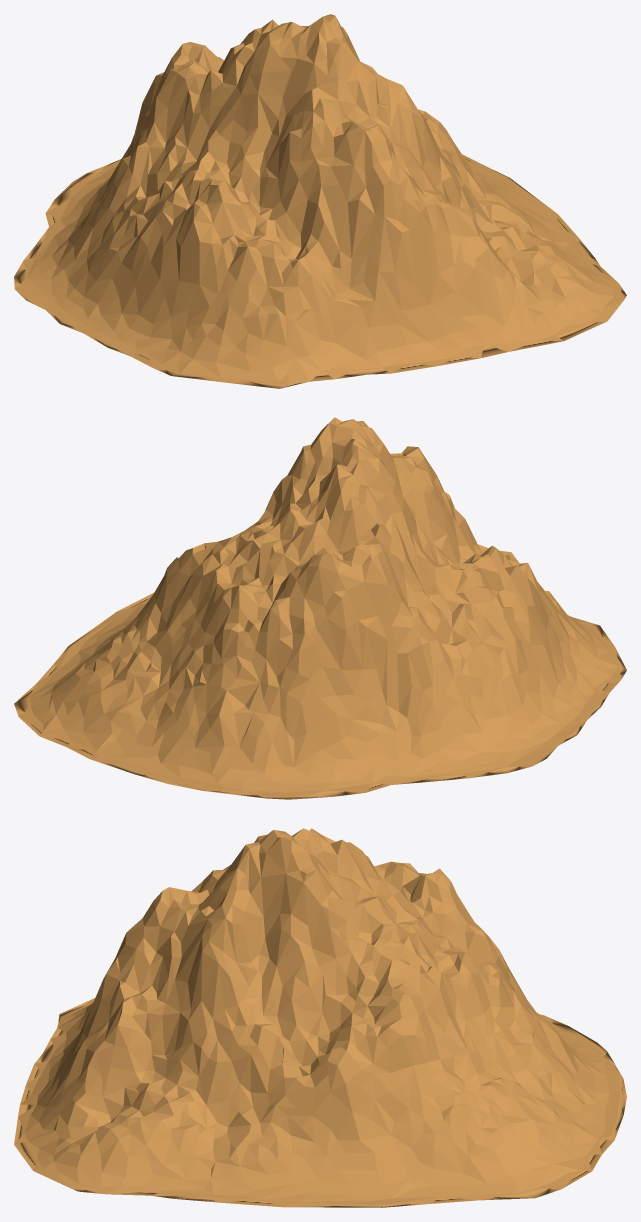
The model's file is Island1.fbx.
The picture shows the model from 3 angles, top to bottom: view 1: azimuth 30°, elevation 25°; view 2: azimuth 150°, elevation 25°; view 3: azimuth 270°, elevation 25°; orthographic projection. The views are drawn at different scales.
Parts seen in each view (by area): view 1: Mounting_1; view 2: Mounting_1; view 3: Mounting_1.
Boxes of the visible parts, x1,y1,x2,y2 form: Mounting_1: (14,14,626,388); Mounting_1: (14,417,626,799); Mounting_1: (14,828,626,1207).
Bounding box in the file's own units: 1572 × 781 × 1675.
